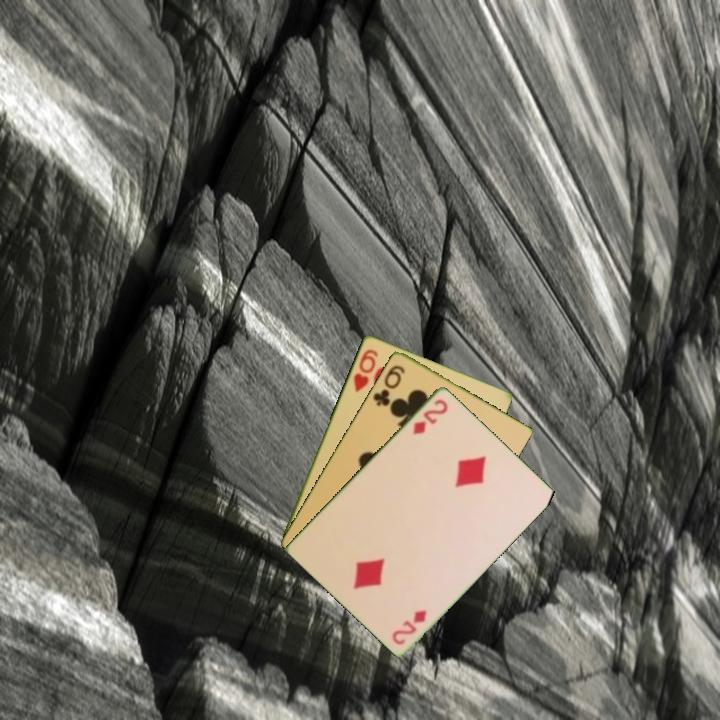2d: (409, 395, 451, 438), (388, 606, 429, 647)
6c: (369, 361, 408, 409)
6h: (350, 345, 381, 394)
